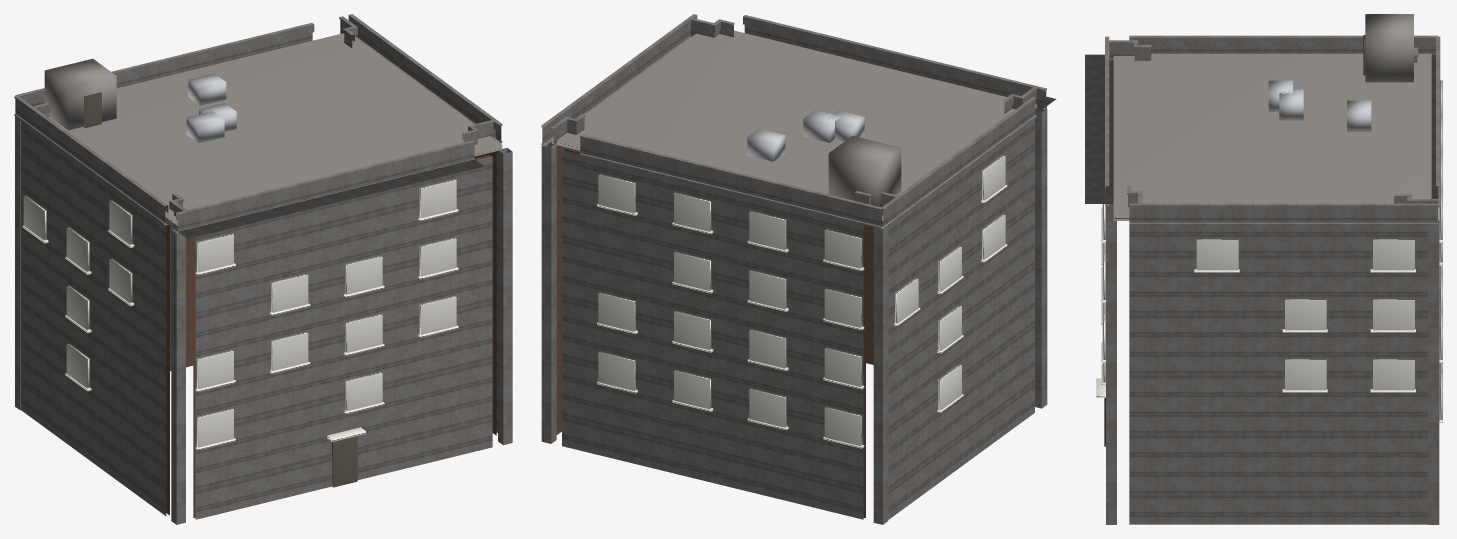
Rendered from b_hospital.gltf.
3 renders of one model, left to right at view 1: azimuth 30°, elevation 25°; view 2: azimuth 150°, elevation 25°; view 3: azimuth 270°, elevation 25°, orthographic. The views are drawn at different scales.
Parts seen in each view (by area): view 1: b_hospital; view 2: b_hospital; view 3: b_hospital.
Part boxes in pixels (x1,y1,x2,y2): b_hospital: (14, 14, 512, 524); b_hospital: (541, 14, 1056, 524); b_hospital: (1085, 14, 1442, 524).
Size of the model in its own units: 18.48 by 17.55 by 16.21.
Materials: 9 (3 with a texture image).
